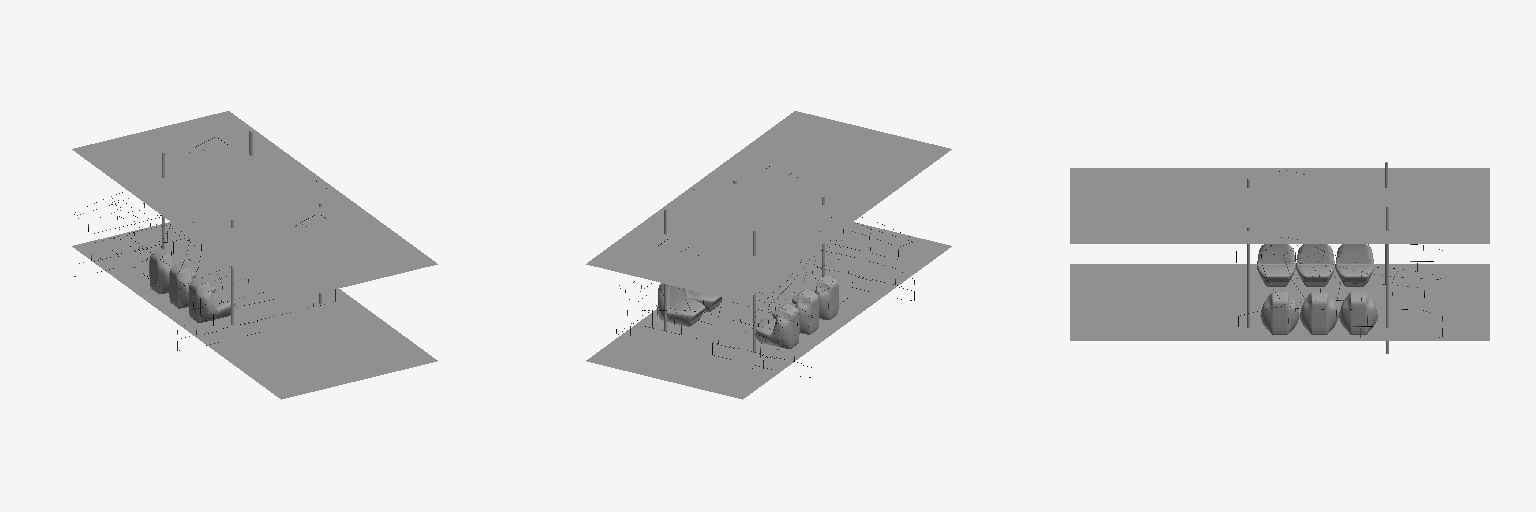
The picture shows the model from 3 angles: view 1: azimuth 30°, elevation 25°; view 2: azimuth 150°, elevation 25°; view 3: azimuth 270°, elevation 25°; orthographic projection.
Parts seen in each view (by area): view 1: Plane.005_Plane.006, Plane, Cube.001; view 2: Plane.005_Plane.006, Plane, Cube.001, Cube; view 3: Plane.005_Plane.006, Plane, Cube.001, Cube.
Boxes of the visible parts, <box> form: Plane.005_Plane.006: <box>72,111,437,302</box>; Plane: <box>72,222,437,399</box>; Cube.001: <box>149,248,235,322</box>; Plane.005_Plane.006: <box>586,111,951,302</box>; Plane: <box>586,222,951,399</box>; Cube.001: <box>752,274,838,348</box>; Cube: <box>658,283,721,326</box>; Plane.005_Plane.006: <box>1070,168,1489,243</box>; Plane: <box>1070,264,1489,340</box>; Cube.001: <box>1257,244,1373,286</box>; Cube: <box>1260,292,1377,334</box>.
Size of the model in its own units: 13.5 by 8.21 by 21.09.
Materials: 4 (1 with a texture image).